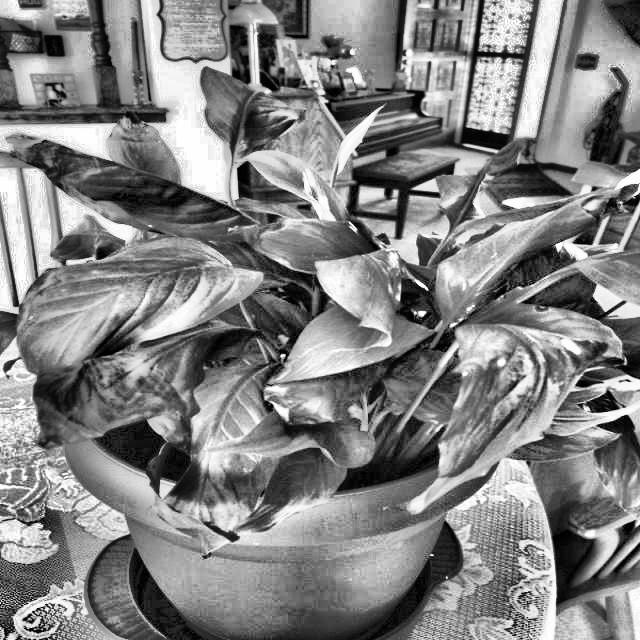plants: (0, 96, 639, 568), (18, 258, 242, 452), (436, 320, 612, 510)
